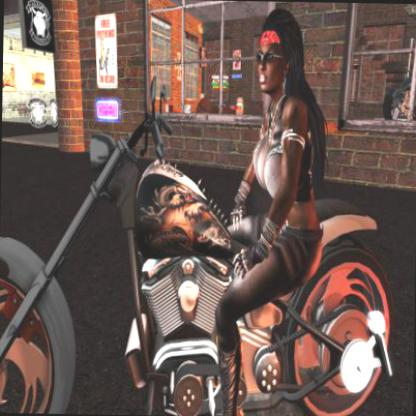motorcycle: (0, 74, 407, 411)
